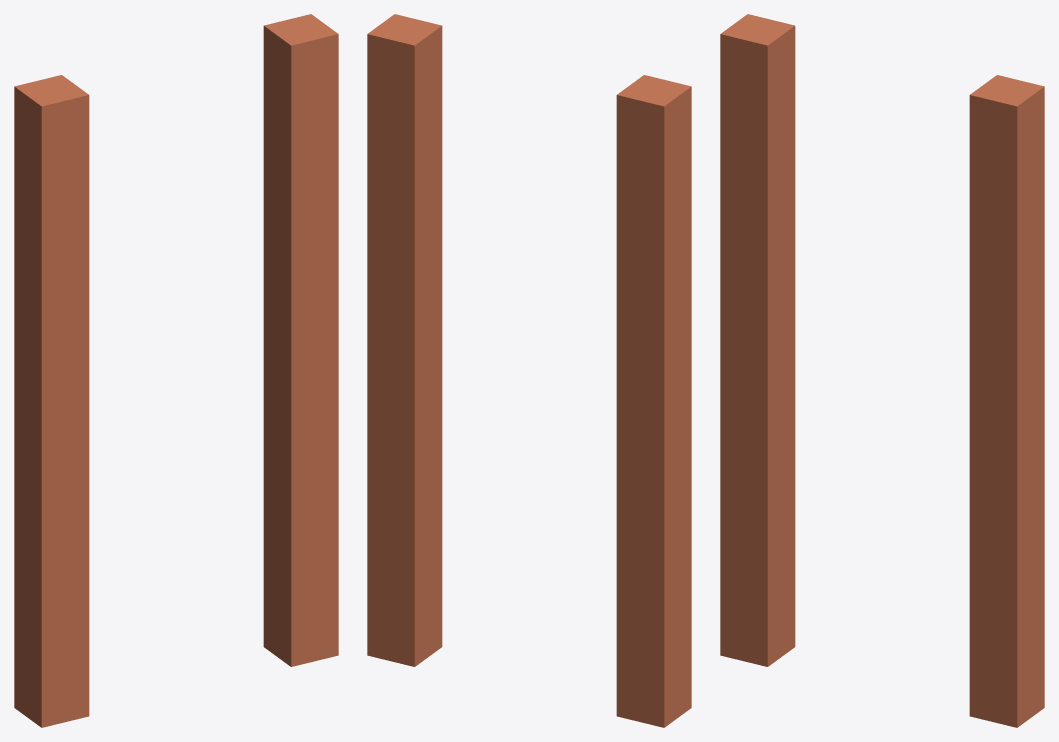
The model's file is window-brown-round-middle.obj.
3 views of the same model, side by side, from view 1: azimuth 30°, elevation 25°; view 2: azimuth 150°, elevation 25°; view 3: azimuth 330°, elevation 25° (orthographic).
Size of the model in its own units: 0.3125 by 0.625 by 0.05.
